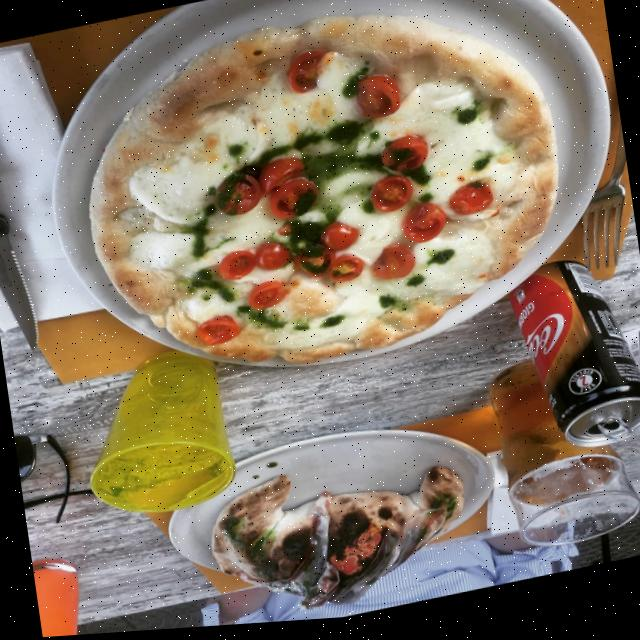pizza: (65, 0, 581, 410), (200, 441, 478, 630)
tomatoes: (280, 50, 336, 104), (266, 176, 324, 228), (213, 170, 266, 224), (352, 75, 404, 127), (368, 177, 418, 223), (379, 139, 431, 183), (399, 205, 446, 253), (368, 244, 417, 289), (447, 183, 495, 226), (257, 156, 307, 197), (214, 249, 260, 288), (196, 315, 243, 352), (244, 280, 288, 317), (322, 222, 364, 259), (325, 255, 367, 290), (253, 240, 292, 277), (297, 251, 338, 285)
